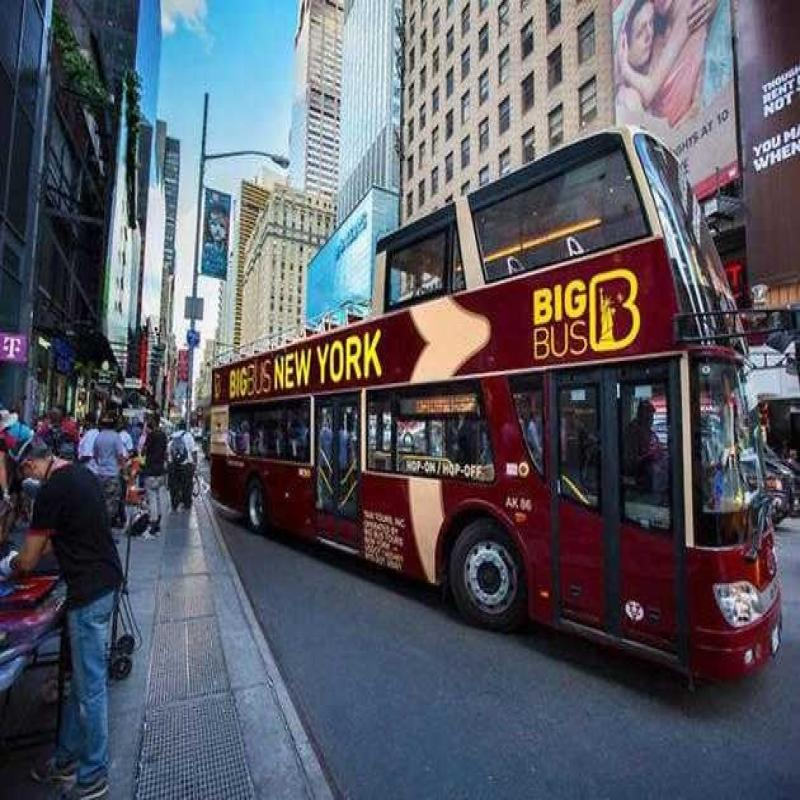bus: (203, 171, 800, 643)
